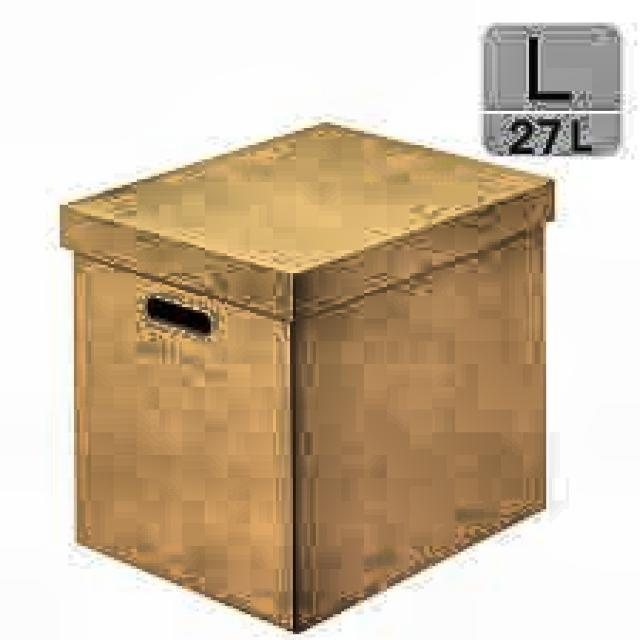cardboard: (57, 116, 555, 632)
